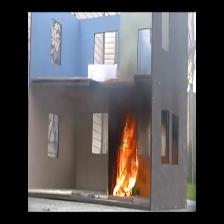fire: (118, 139, 140, 197)
smoke: (120, 89, 150, 110)
